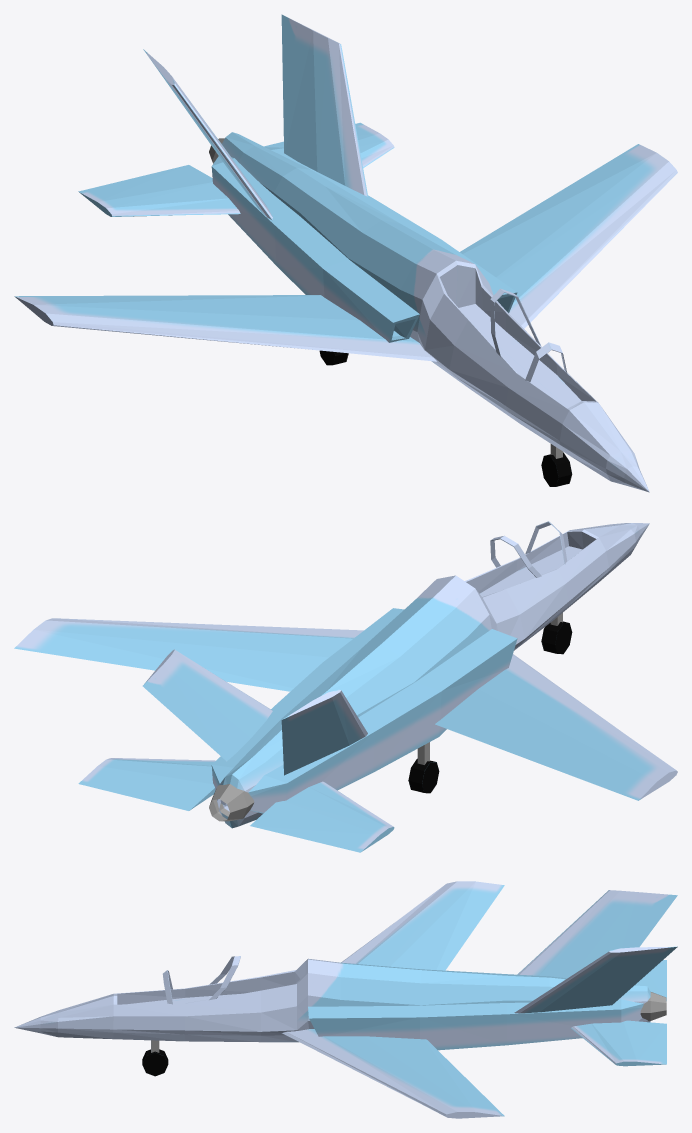
3 views of the same model, one above another, from view 1: azimuth 30°, elevation 25°; view 2: azimuth 150°, elevation 25°; view 3: azimuth 270°, elevation 25° (orthographic). The views are drawn at different scales.
Parts seen in each view (by area): view 1: Body, Wings, Air_inlet, Vertical_stabliizer, Elevator, Front_wheel; view 2: Wings, Body, Air_inlet, Vertical_stabliizer, Elevator, Nozzel, Rear_wheel, Front_wheel, Cockpit_frame_rear; view 3: Body, Wings, Vertical_stabliizer, Air_inlet, Elevator, Front_wheel, Nozzel, Cockpit_frame_rear.
Part boxes in pixels (x1=…): Body: x1=222, y1=132, x2=649, y2=492; Wings: x1=14, y1=144, x2=677, y2=361; Air_inlet: x1=211, y1=147, x2=517, y2=342; Vertical_stabliizer: x1=143, y1=14, x2=368, y2=219; Elevator: x1=78, y1=122, x2=394, y2=216; Front_wheel: x1=541, y1=444, x2=572, y2=486; Wings: x1=14, y1=618, x2=677, y2=800; Body: x1=217, y1=523, x2=649, y2=828; Air_inlet: x1=211, y1=608, x2=517, y2=813; Vertical_stabliizer: x1=142, y1=649, x2=367, y2=775; Elevator: x1=78, y1=758, x2=394, y2=852; Nozzel: x1=209, y1=784, x2=254, y2=821; Rear_wheel: x1=408, y1=742, x2=439, y2=793; Front_wheel: x1=541, y1=613, x2=572, y2=654; Cockpit_frame_rear: x1=490, y1=535, x2=541, y2=577; Body: x1=14, y1=958, x2=650, y2=1042; Wings: x1=282, y1=881, x2=504, y2=1118; Vertical_stabliizer: x1=514, y1=890, x2=677, y2=1013; Air_inlet: x1=308, y1=999, x2=643, y2=1050; Elevator: x1=571, y1=960, x2=666, y2=1066; Front_wheel: x1=142, y1=1040, x2=168, y2=1076; Nozzel: x1=640, y1=992, x2=666, y2=1020; Cockpit_frame_rear: x1=209, y1=956, x2=240, y2=1000.
Bounding box in the file's own units: 9.11 × 2.84 × 11.05.
1 material, 1 textured.
